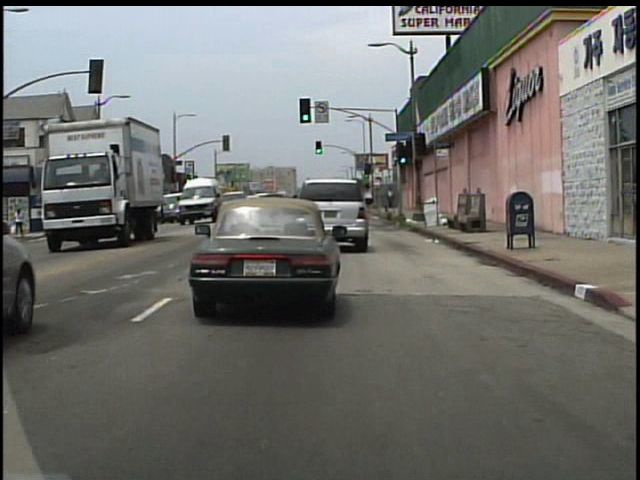person: (16, 208, 27, 238), (388, 186, 397, 208)
